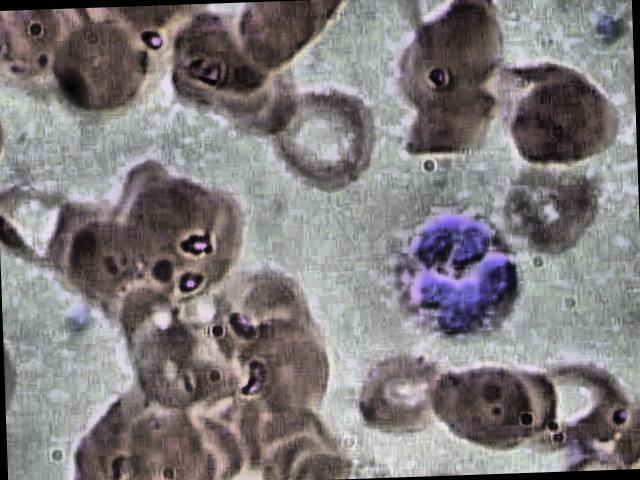Platelets: (588, 8, 632, 52), (59, 301, 95, 333)
RBC: (264, 84, 394, 200), (136, 173, 264, 289), (489, 65, 626, 173), (42, 8, 162, 120), (388, 70, 507, 170), (158, 2, 277, 100), (404, 0, 523, 92), (423, 351, 528, 455), (348, 342, 452, 446), (460, 348, 564, 452), (528, 346, 632, 450), (232, 309, 336, 413), (53, 203, 157, 307), (124, 308, 228, 411), (498, 156, 594, 252), (71, 396, 161, 480)
WBC: (369, 204, 537, 346)
